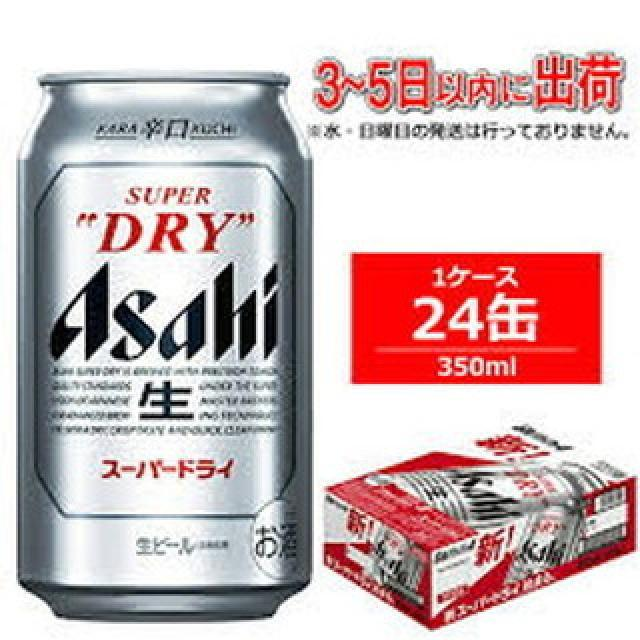can: (24, 59, 314, 622)
